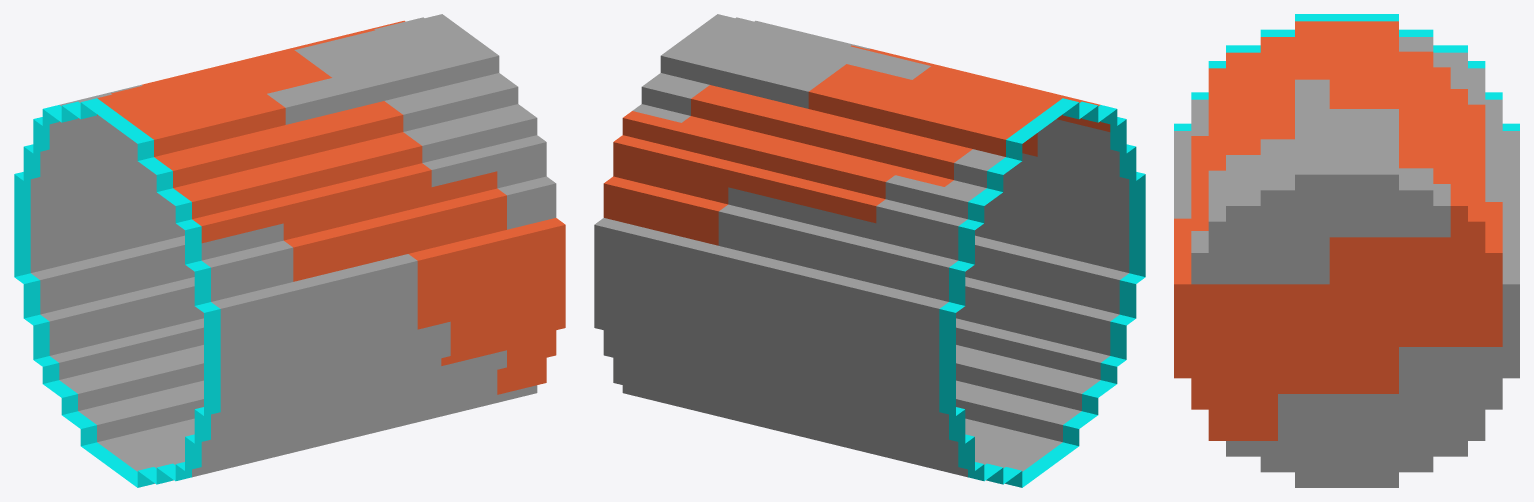
Rendered from Mine4-6.obj.
3 renders of one model, left to right at view 1: azimuth 30°, elevation 25°; view 2: azimuth 150°, elevation 25°; view 3: azimuth 270°, elevation 25°, orthographic. The views are drawn at different scales.
Bounding box in the file's own units: 2.2 × 2 × 2.
